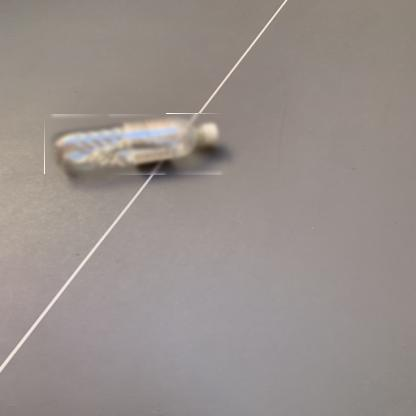plastic-bottles: (46, 115, 230, 177)
